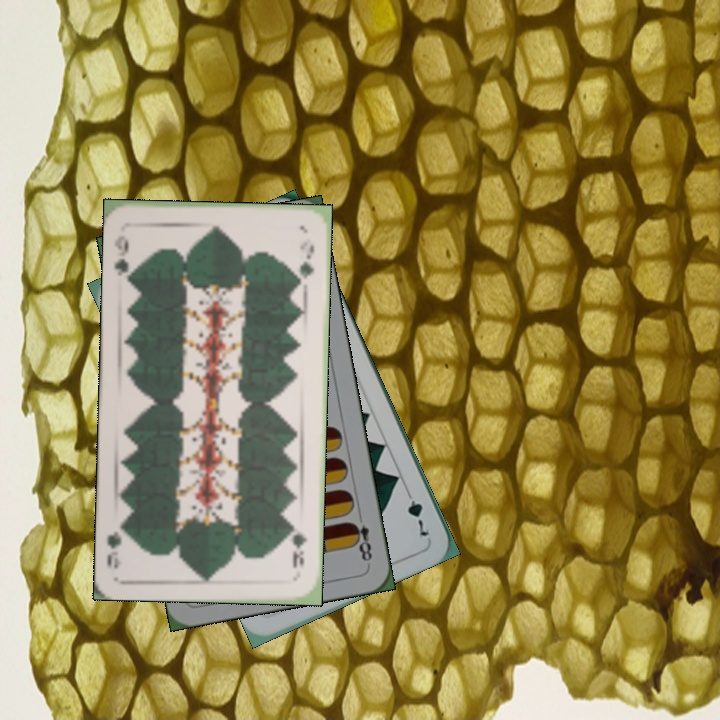E8: (347, 508, 375, 564)
G7: (400, 484, 432, 539)
G9: (110, 231, 136, 284), (288, 521, 309, 571)
